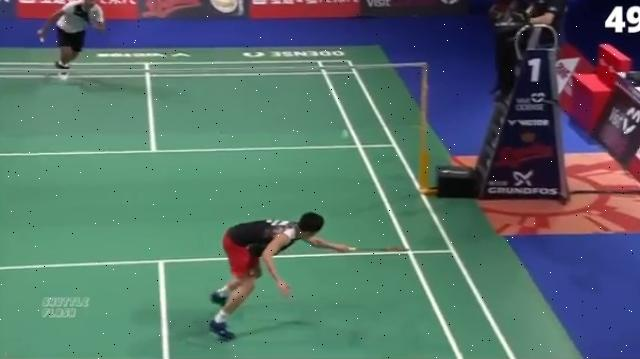Shuttlecock: (338, 126, 350, 140)
